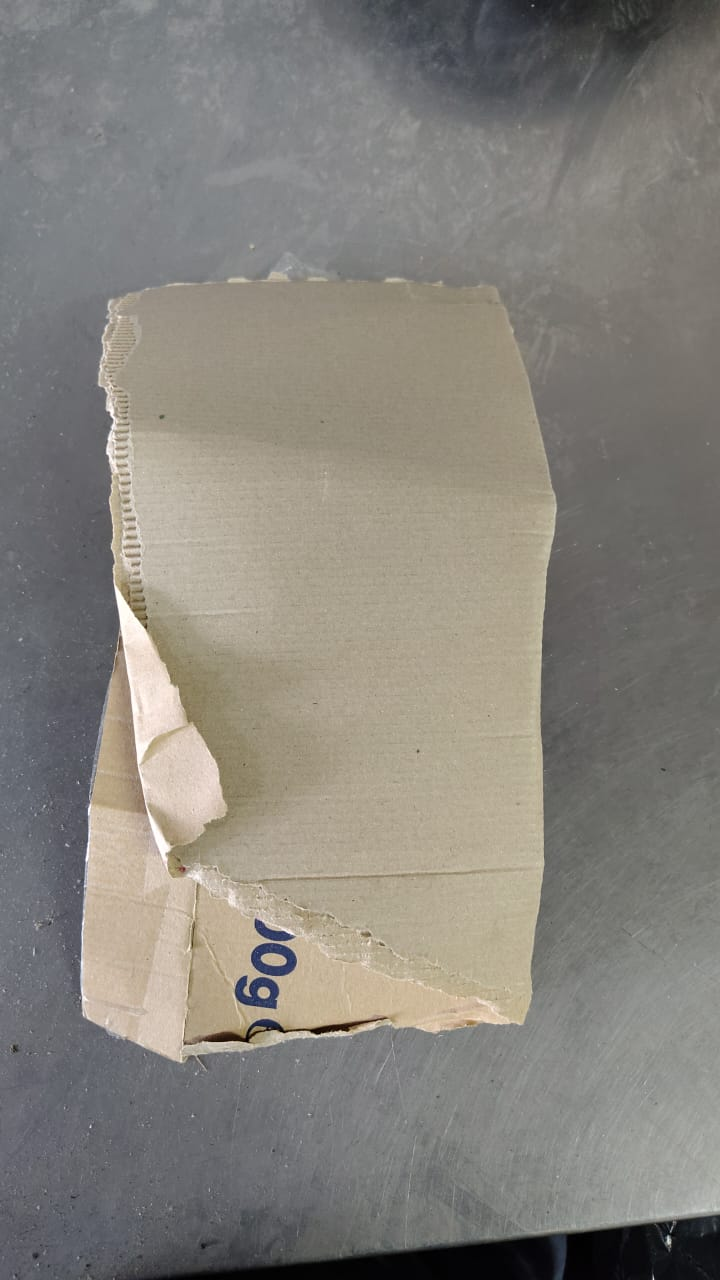Carton: (80, 284, 561, 1062)
